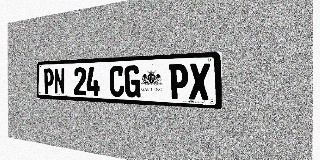2: (74, 67, 86, 95)
4: (87, 67, 100, 96)
C: (109, 66, 124, 97)
G: (125, 65, 140, 98)
N: (54, 68, 65, 95)
P: (169, 64, 188, 100), (43, 68, 54, 94)
X: (189, 63, 210, 100)
